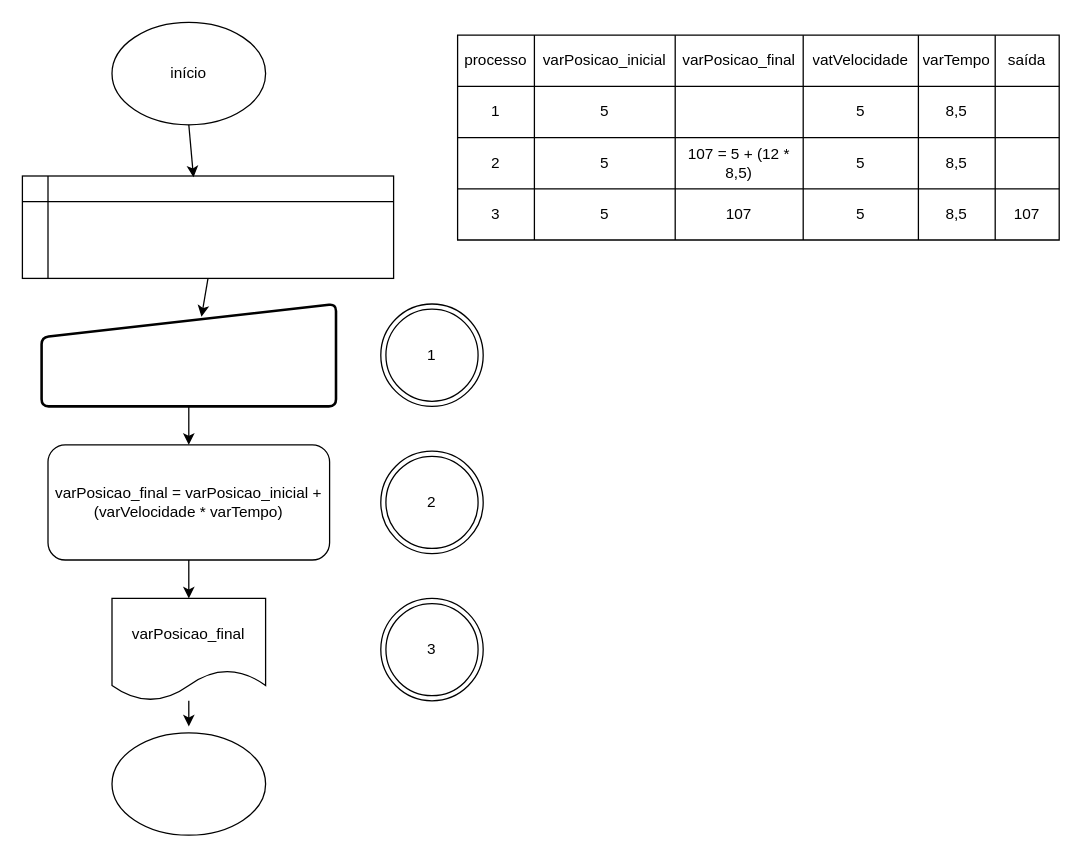
Image size: 1082x858. Some labels were removed from this diagram. The centre of each missing label's shape, as x and y in pixels:
fim: pixel 188 783
varPosicao_inicial, varVelocidade, varTempo: pixel 188 354
varPosicao_inicial, varVelocidade, varTempo, varPosicao_final: pixel 207 226
